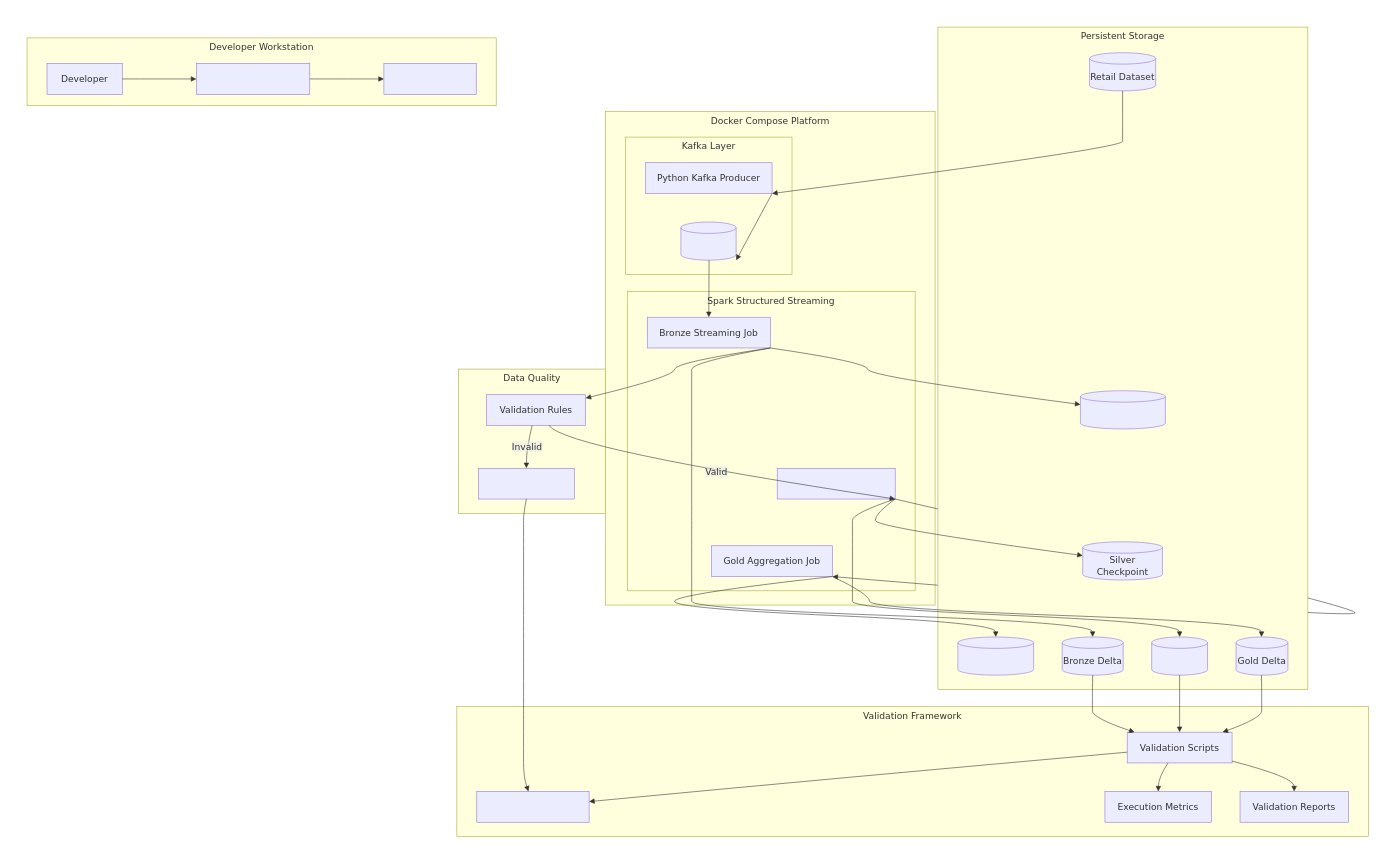
Some shapes in this 1378 by 846 pixel diagram are drawn without their labels. Each missing label, with the centre of its shape:
"Bronze Checkpoint" belongs at (1122,409).
"Git Repository" belongs at (429,78).
"Gold Checkpoint" belongs at (995,655).
"Invalid Records" belongs at (526,483).
"Kafka Topic" belongs at (708,240).
"PyCharm / VS Code" belongs at (253,78).
"Silver Delta" belongs at (1179,655).
"Silver Streaming Job" belongs at (836,483).
"Validation Artifacts" belongs at (532,806).
